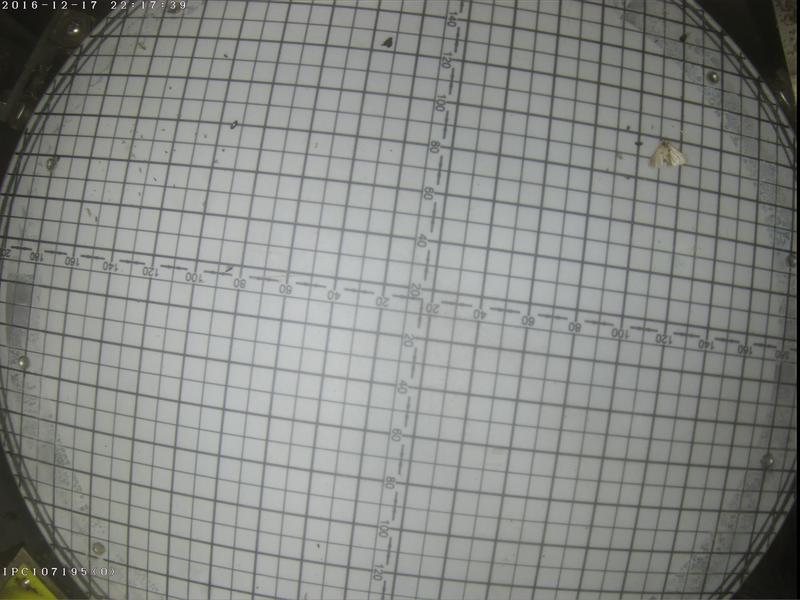Stem borer: (648, 136, 683, 168)
